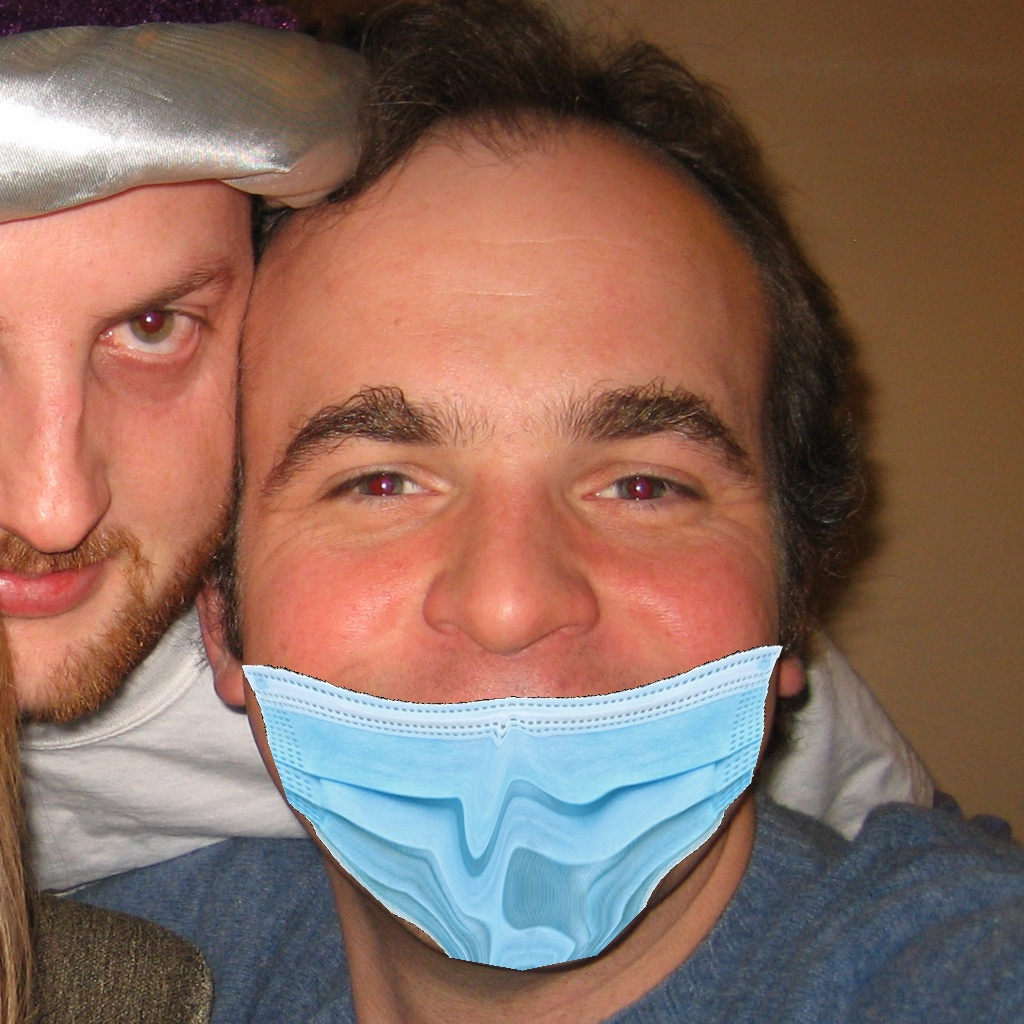mascarilla_mal_puesta: (214, 403, 819, 955)
